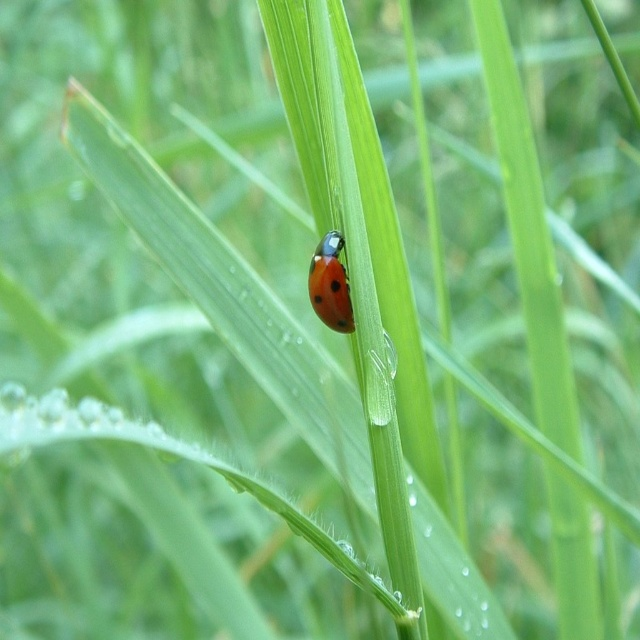Ladybug: (308, 231, 354, 335)
